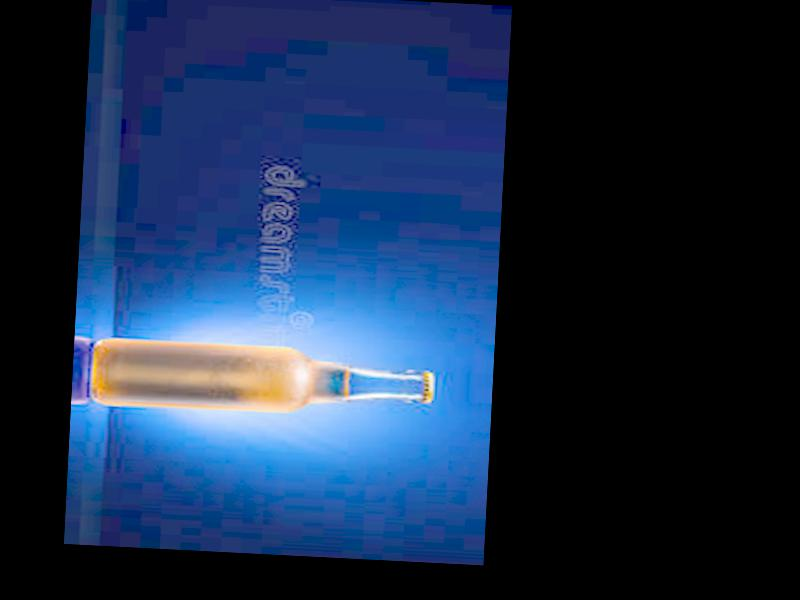Beer: (90, 335, 435, 424)
